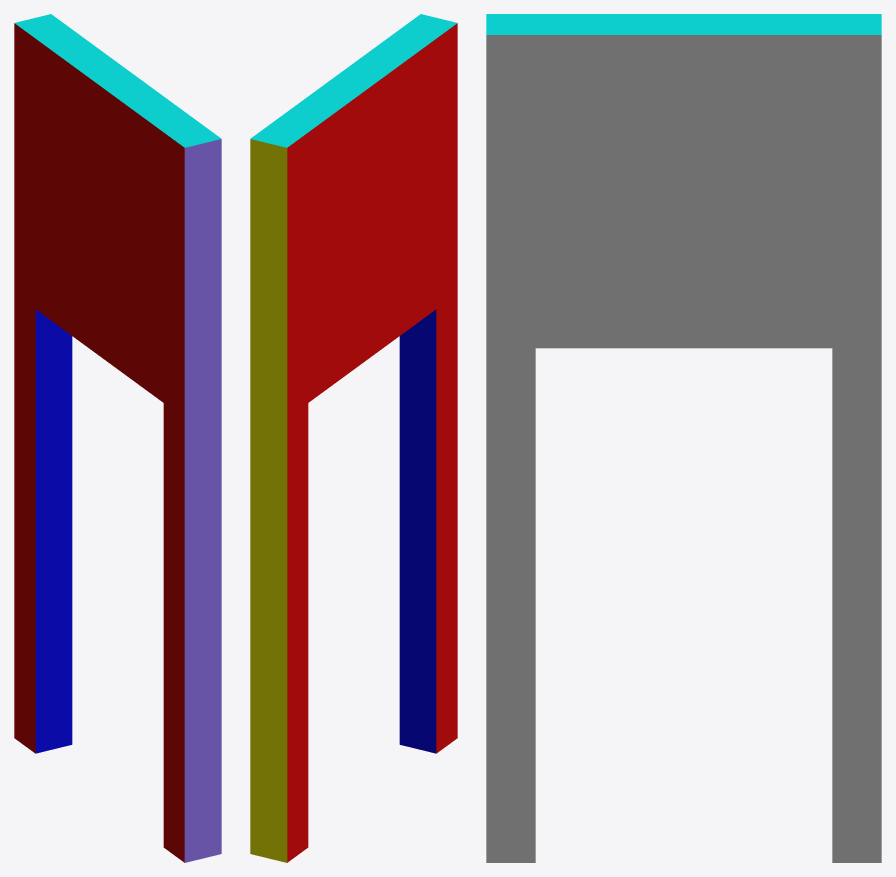
File: Mesh_Wall_10.FBX
3 views of the same model, side by side, from view 1: azimuth 30°, elevation 25°; view 2: azimuth 150°, elevation 25°; view 3: azimuth 270°, elevation 25° (orthographic). The views are drawn at different scales.
Parts seen in each view (by area): view 1: Mesh_Wall_10; view 2: Mesh_Wall_10; view 3: Mesh_Wall_10.
Boxes of the visible parts, x1,y1,x2,y2 form: Mesh_Wall_10: (14, 14, 221, 862); Mesh_Wall_10: (250, 14, 457, 862); Mesh_Wall_10: (486, 14, 881, 862).
Size of the model in its own units: 0.2 by 3.7 by 1.6.
